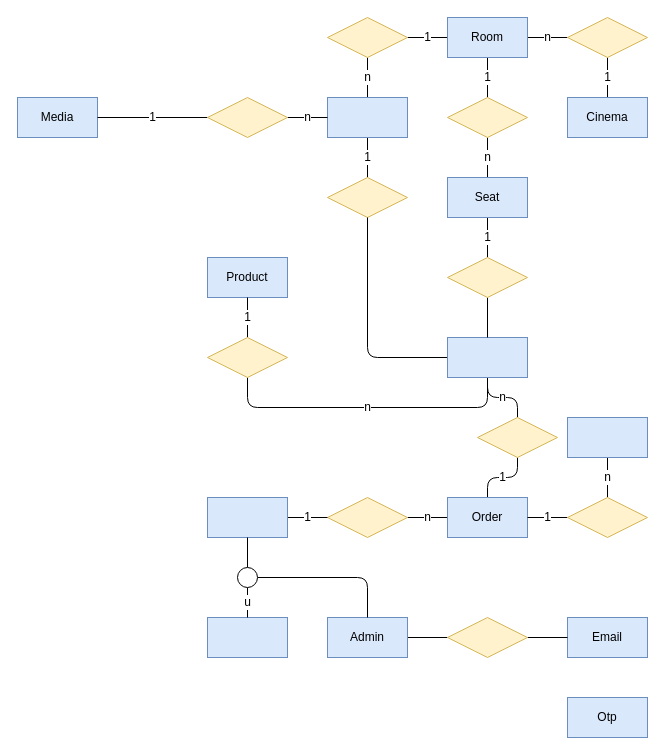
This 665x755 diagram has some shape labels left out. Each missing label, with the centre of its shape:
"Customer" belongs at (x=247, y=517).
"OrderDetail" belongs at (x=487, y=357).
"Payment" belongs at (x=607, y=437).
"ShowTime" belongs at (x=367, y=117).
"User" belongs at (x=247, y=637).
